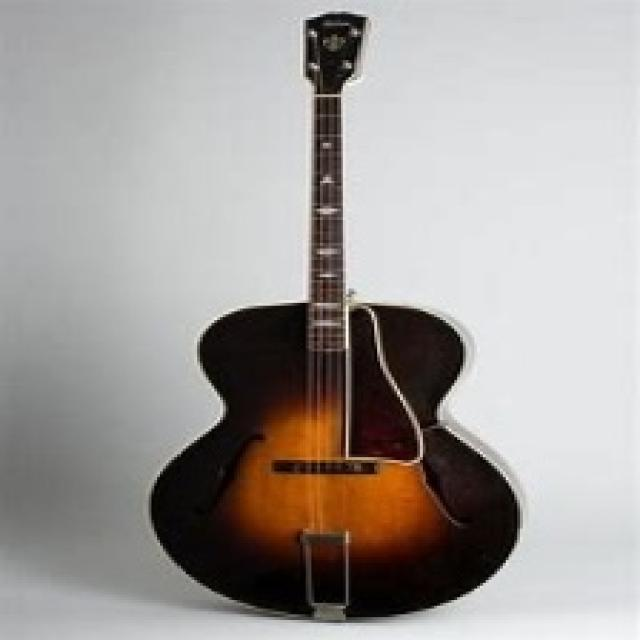guitar: (149, 11, 532, 625)
